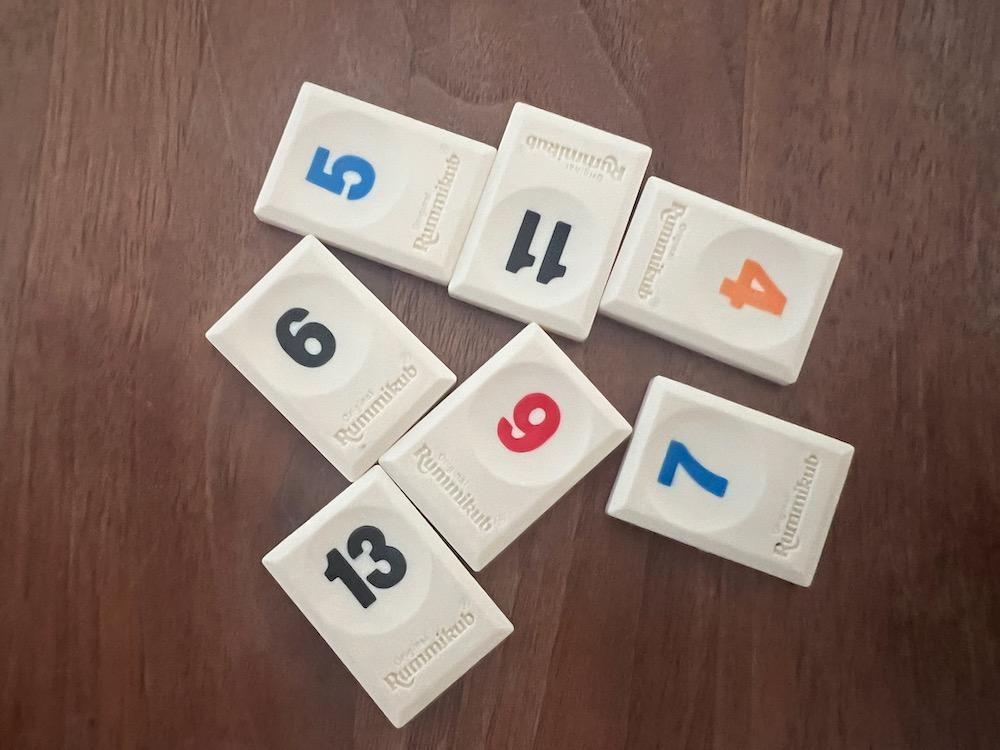black_11: (449, 104, 652, 342)
black_13: (262, 467, 514, 727)
black_6: (207, 236, 455, 480)
blue_5: (254, 82, 496, 285)
blue_7: (605, 377, 854, 586)
orange_4: (600, 178, 842, 385)
red_9: (381, 324, 631, 570)
